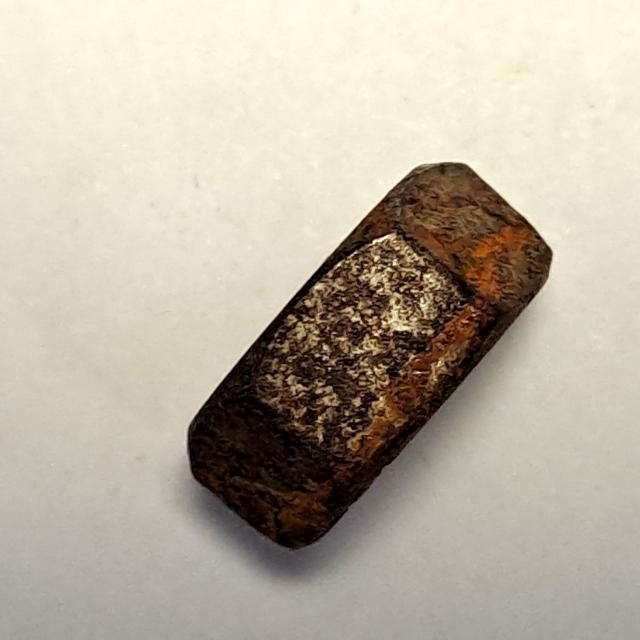Side_Rust: (171, 149, 569, 562)
